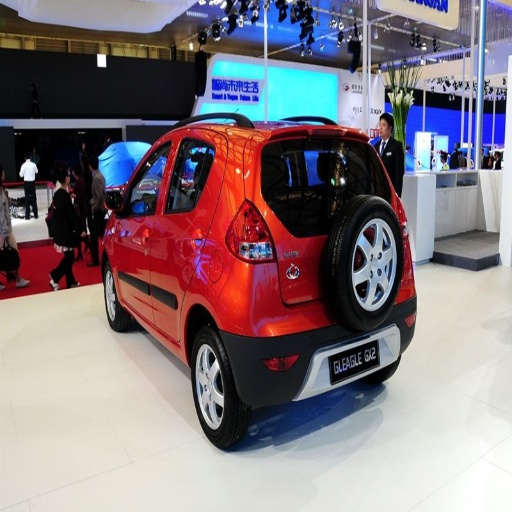back_left_light: (227, 207, 275, 263)
back_right_light: (165, 142, 216, 207)
trunk: (237, 176, 339, 332), (150, 153, 213, 297)
